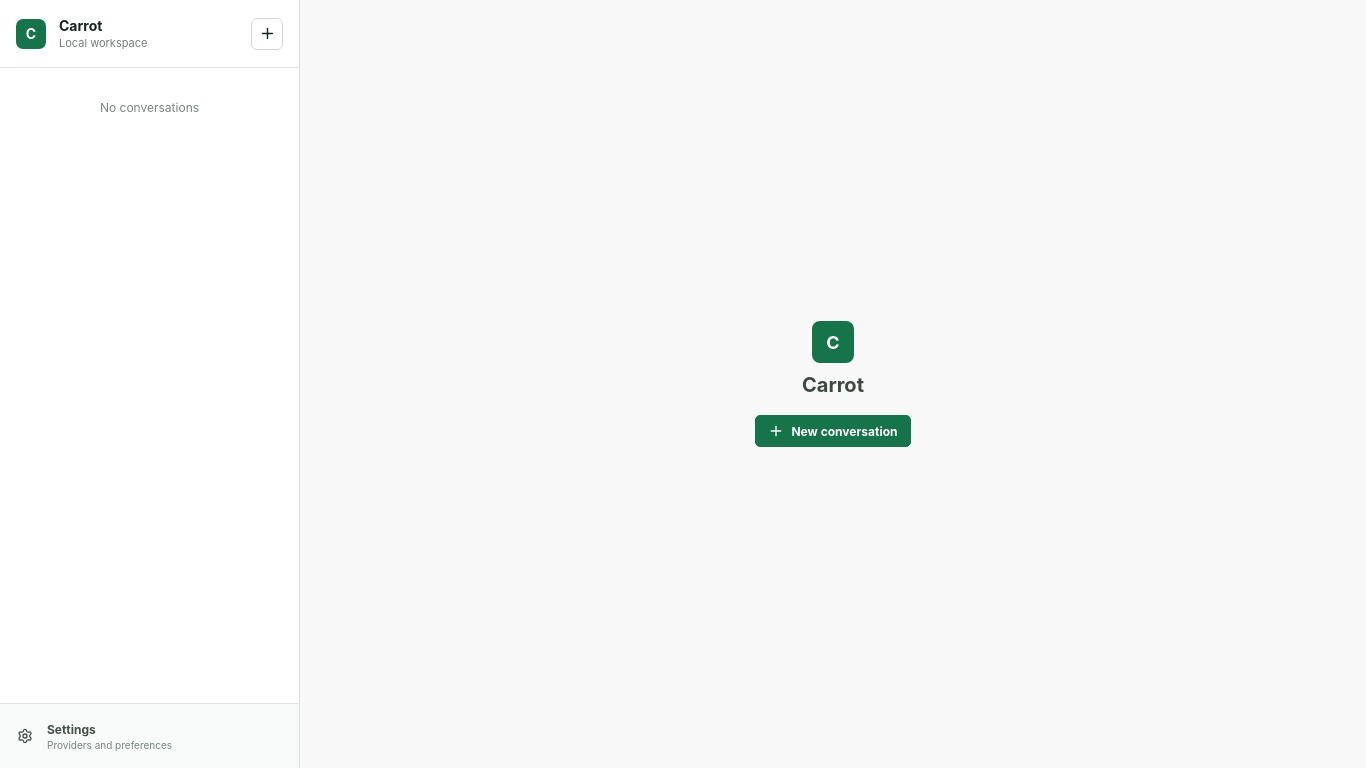
it: App › keeps conversation navigation inactive while settings are open
Click the button named "New conversation". click: (267, 34)
box: [251, 18, 283, 50]
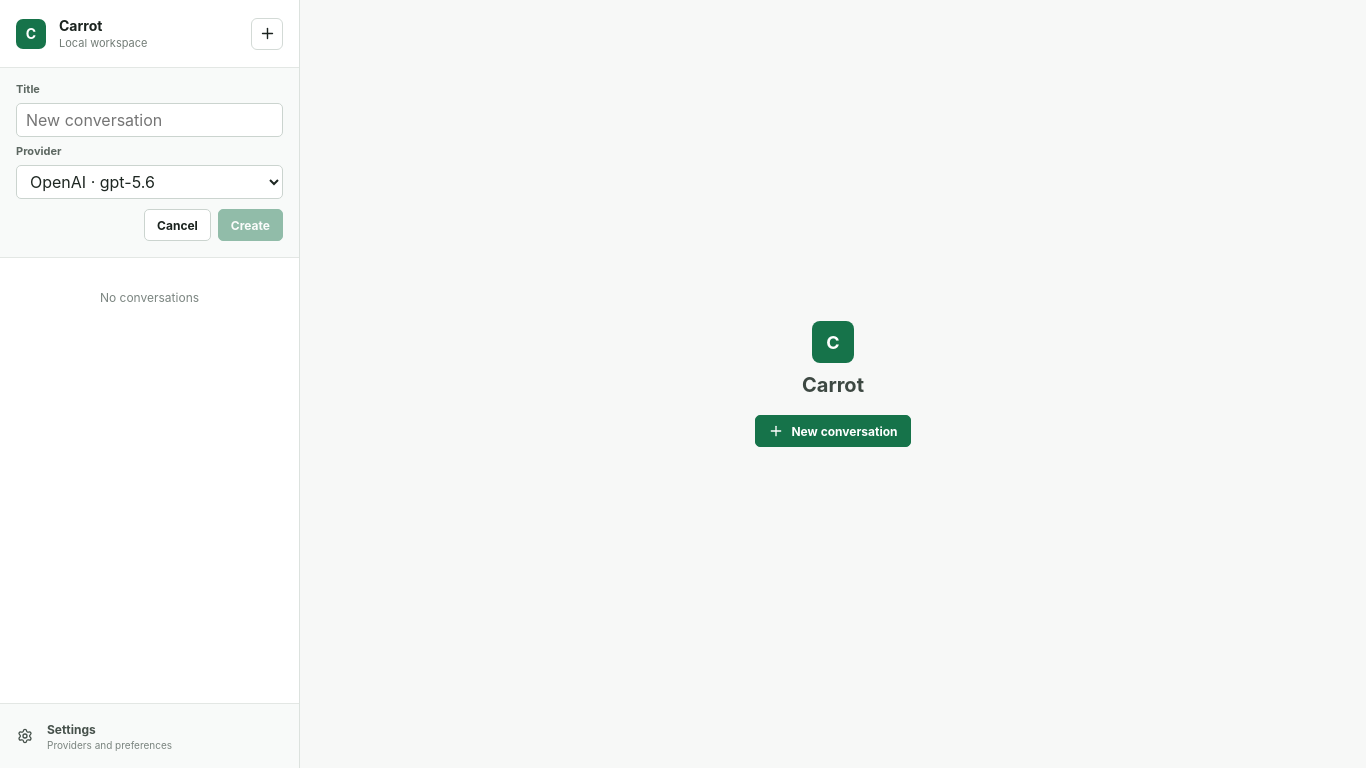
Type "Settings boundary" into the field with id "conversation-title". click: (150, 120)
box: [16, 103, 283, 137]
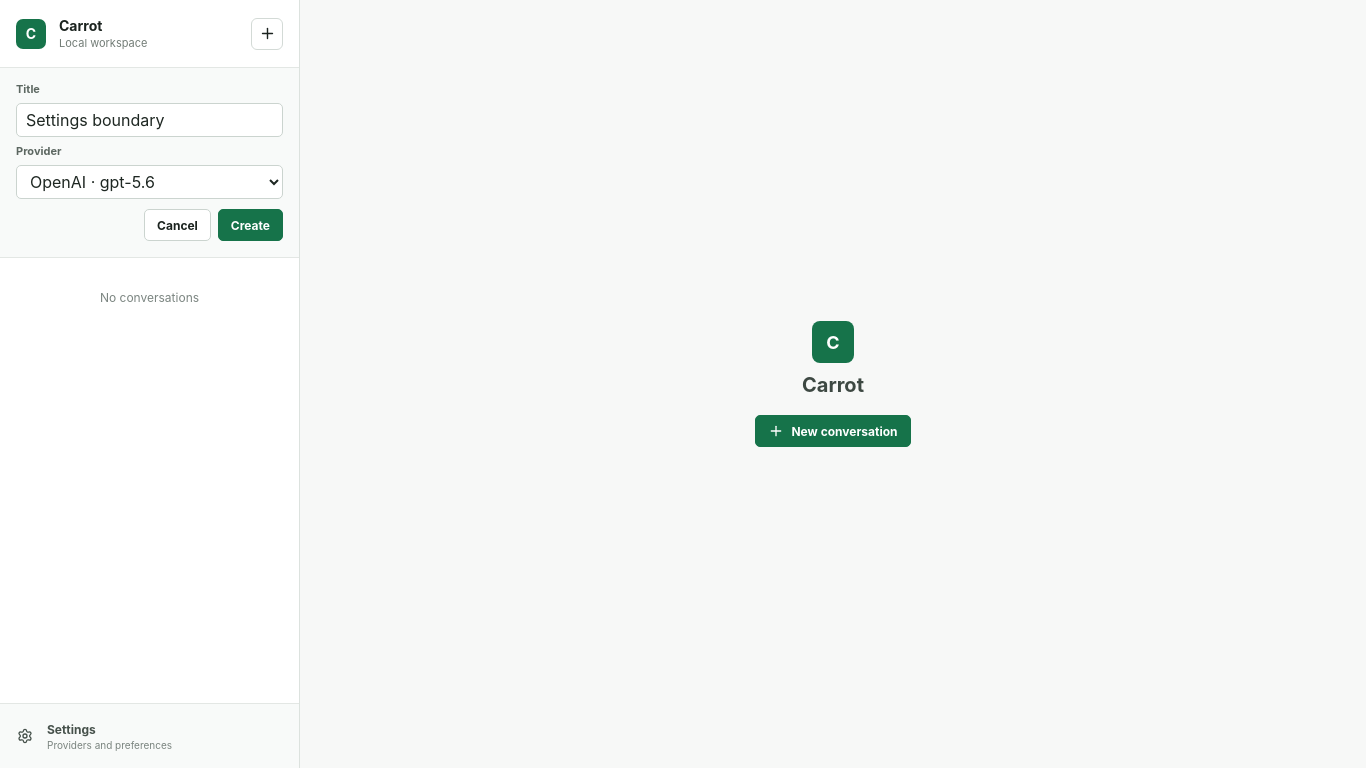
Submit the form with class "create-form", box [0, 68, 299, 258]
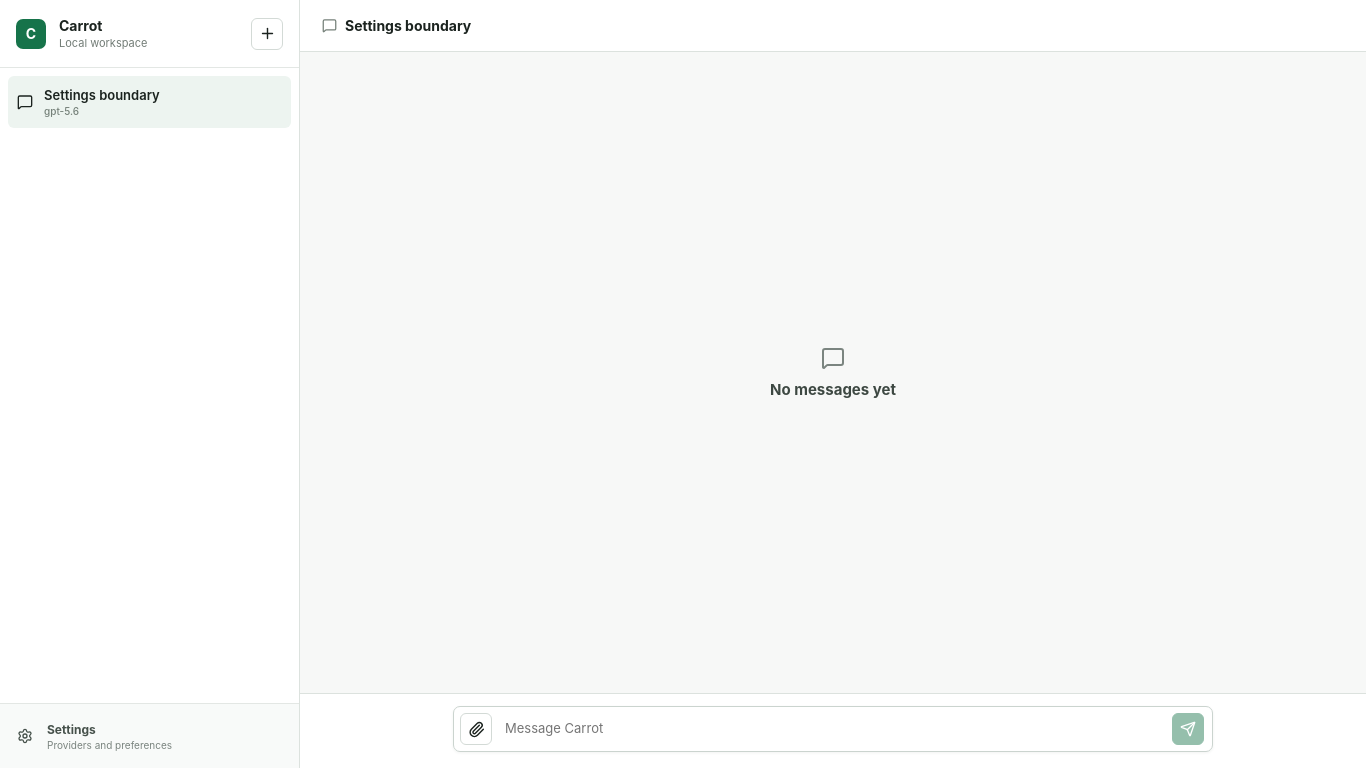
Click the button with class "sidebar-footer-row". click: (150, 736)
box: [8, 712, 291, 760]
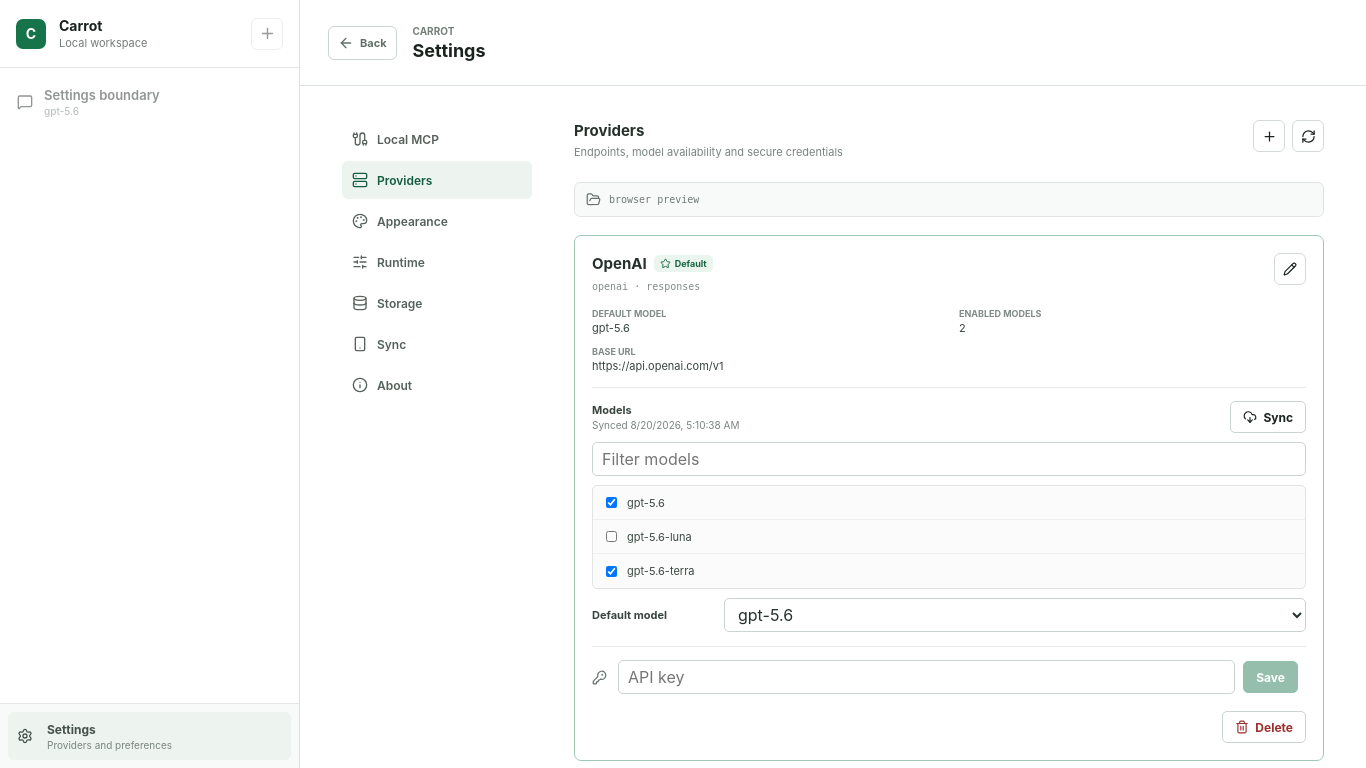
Now the button with class "conversation-select" is disabled, box [8, 76, 291, 128]
Now the button named "New conversation" is disabled, box [251, 18, 283, 50]
Now the element with class "settings-page" is shown
Click the button with aria-label "Back to workspace". click: (362, 42)
box: [328, 26, 396, 60]
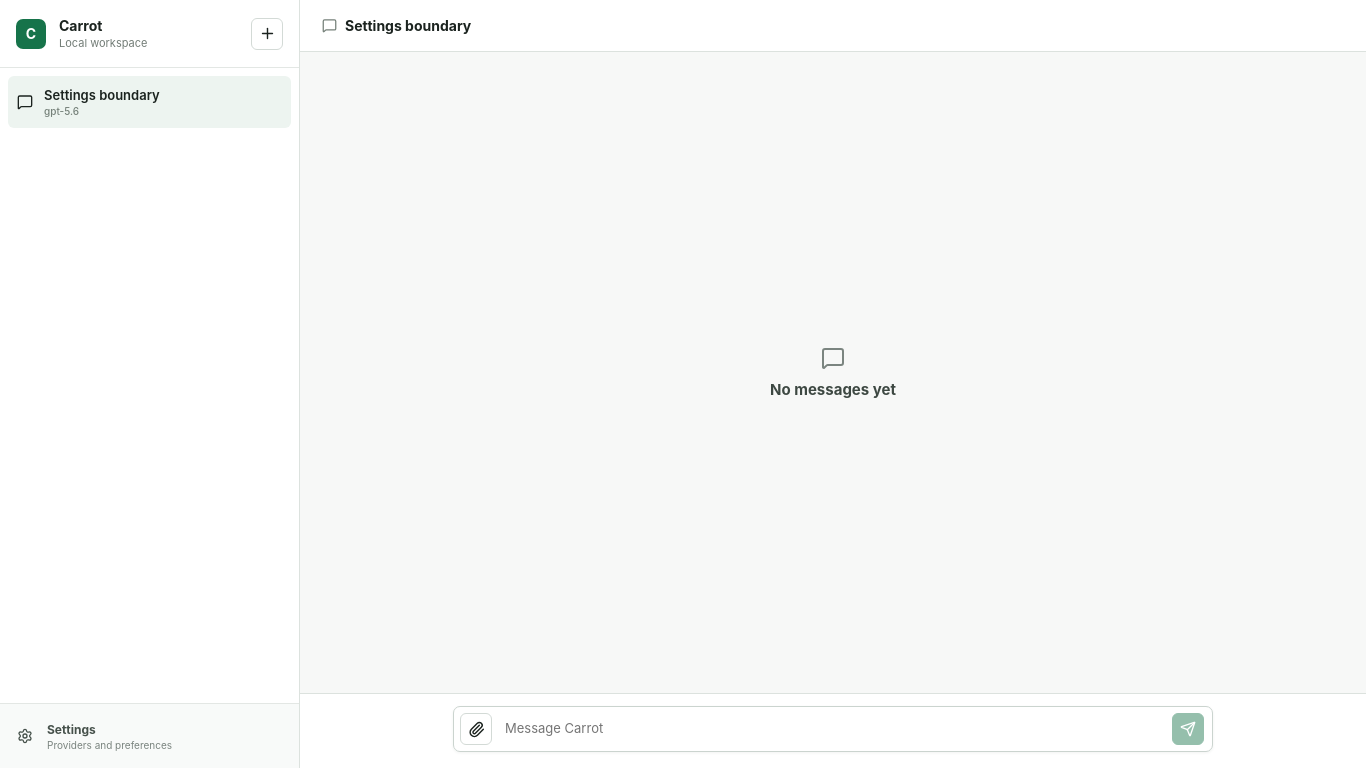
Now the header with class "conversation-header" reads "Settings boundary", box [345, 16, 471, 34]
Now the button with class "conversation-select" is enabled, box [8, 76, 291, 128]
